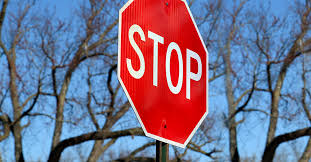SS: (116, 1, 208, 150)
